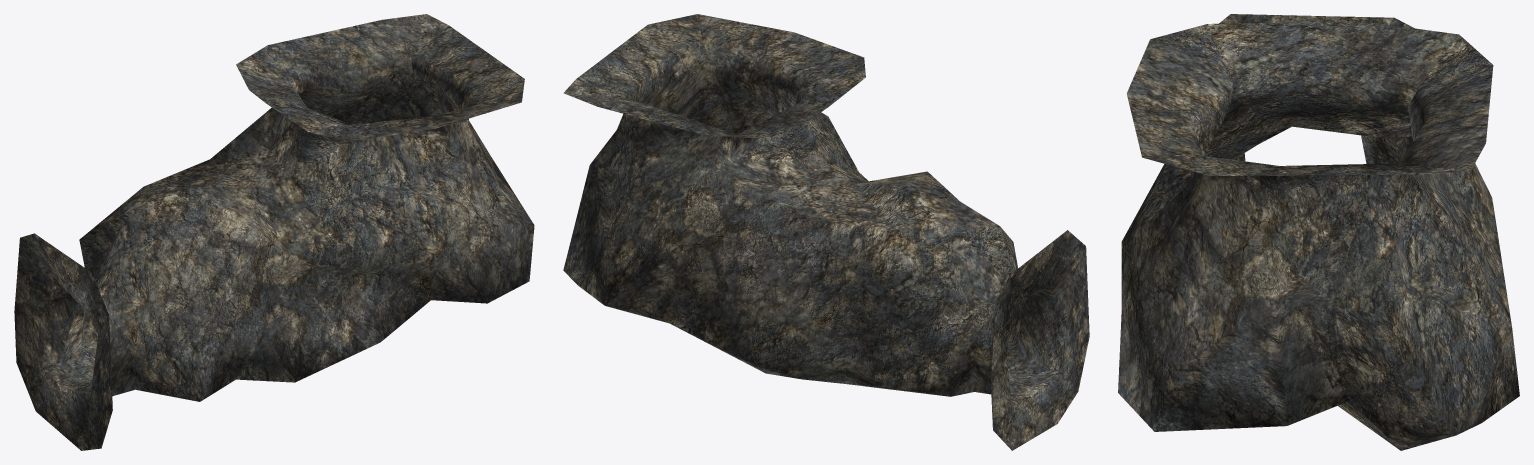
Rendered from Module21A_LOD2.fbx.
The picture shows the model from 3 angles, left to right: view 1: azimuth 30°, elevation 25°; view 2: azimuth 150°, elevation 25°; view 3: azimuth 270°, elevation 25°; orthographic projection. The views are drawn at different scales.
Parts seen in each view (by area): view 1: cave_el21_1000_Group13578; view 2: cave_el21_1000_Group13578; view 3: cave_el21_1000_Group13578.
Boxes of the visible parts, x1,y1,x2,y2 form: cave_el21_1000_Group13578: (14,14,534,450); cave_el21_1000_Group13578: (563,14,1089,450); cave_el21_1000_Group13578: (1118,14,1519,450).
Bounding box in the file's own units: 20.64 × 12.88 × 11.62.
